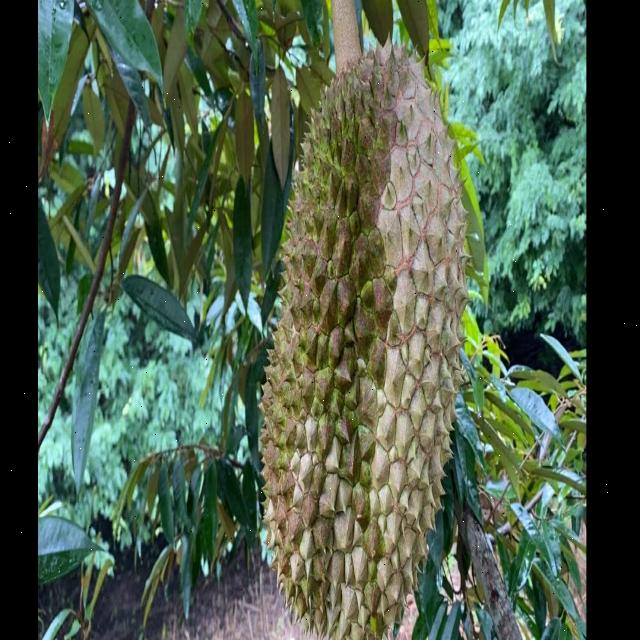RIPE: (256, 34, 465, 640)
